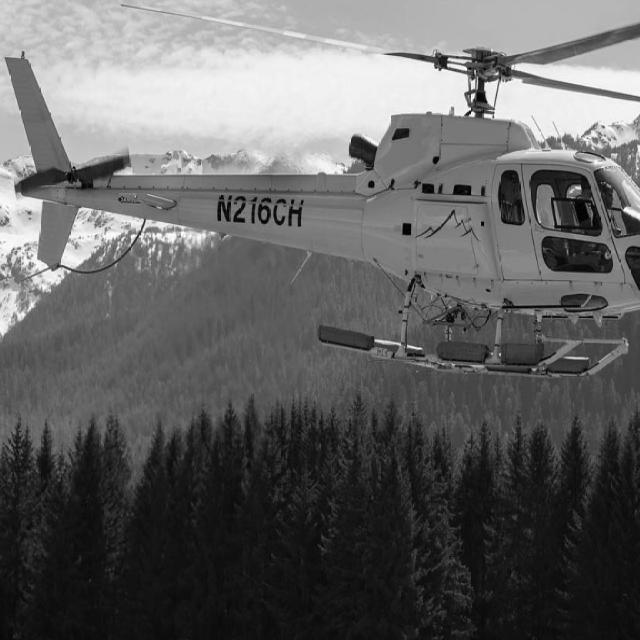helicopter: (1, 1, 640, 407)
